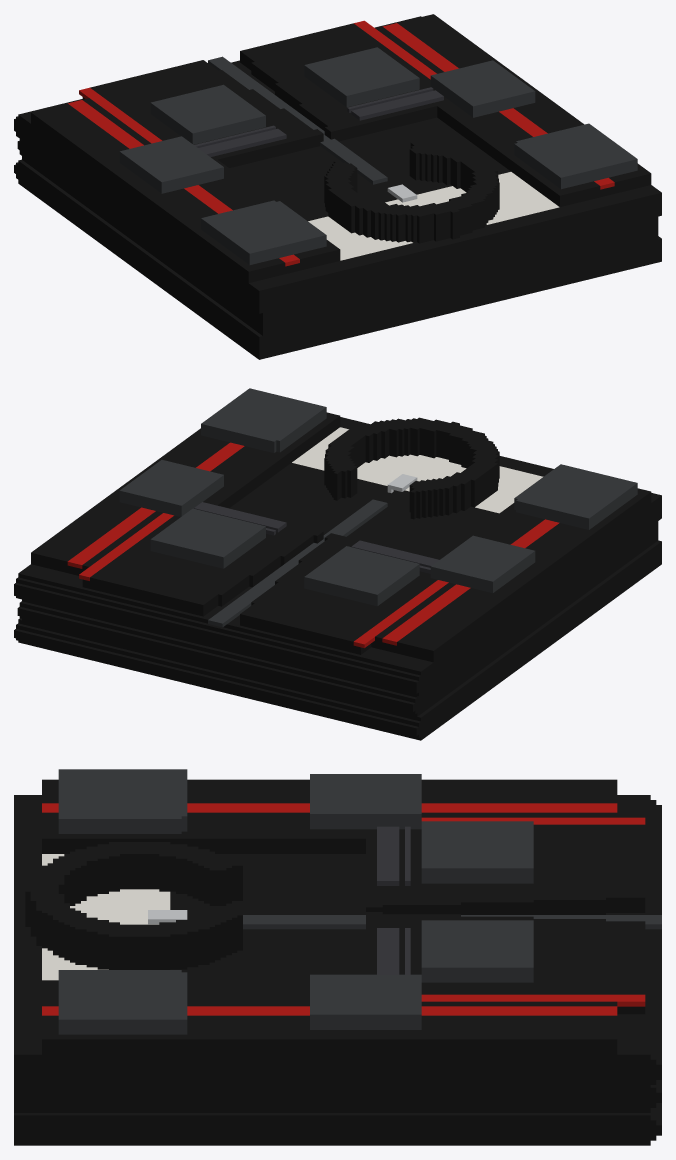
File: touring_suit.glb
3 views of the same model, one above another, from view 1: azimuth 30°, elevation 25°; view 2: azimuth 150°, elevation 25°; view 3: azimuth 270°, elevation 25° (orthographic). The views are drawn at different scales.
Parts seen in each view (by area): view 1: touring_suit:compound; view 2: touring_suit:compound; view 3: touring_suit:compound.
Part boxes in pixels (x1,y1,x2,y2): touring_suit:compound: (14,14,661,359); touring_suit:compound: (14,388,661,740); touring_suit:compound: (14,769,661,1145).
Size of the model in its own units: 0.44 by 0.1 by 0.464.
